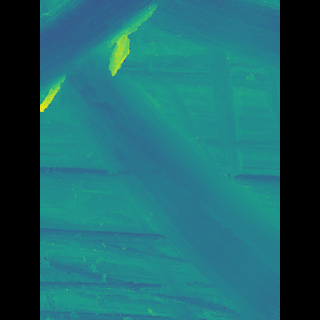Loch: (70, 0, 248, 320)
